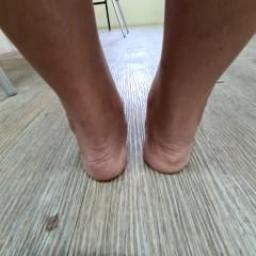Back View -Both Feet-: (32, 67, 238, 193)
